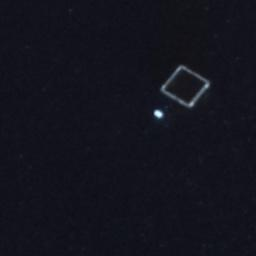square_solid: (158, 61, 213, 112)
